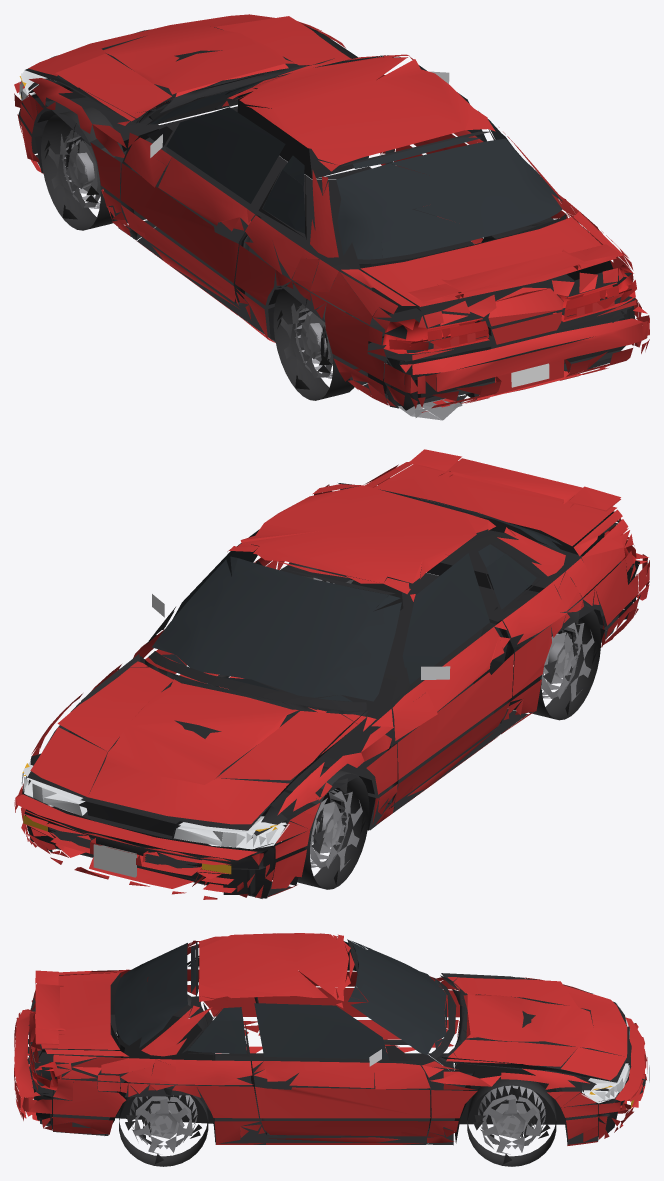
3 views of the same model, one above another, from view 1: azimuth 30°, elevation 25°; view 2: azimuth 150°, elevation 25°; view 3: azimuth 270°, elevation 25° (orthographic). The views are drawn at different scales.
Parts seen in each view (by area): view 1: body, wheel_fl, wheel_rl; view 2: body, wheel_fl, wheel_rl; view 3: body, wheel_fr, wheel_rr.
Boxes of the visible parts, x1,y1,x2,y2 form: body: (14, 14, 649, 420); wheel_fl: (41, 107, 123, 230); wheel_rl: (273, 278, 354, 400); body: (14, 449, 649, 899); wheel_fl: (281, 766, 369, 889); wheel_rl: (514, 602, 600, 720); body: (14, 933, 649, 1145); wheel_fr: (467, 1077, 556, 1166); wheel_rr: (119, 1083, 208, 1166).
Bounding box in the file's own units: 1.84 × 1.24 × 4.52.
